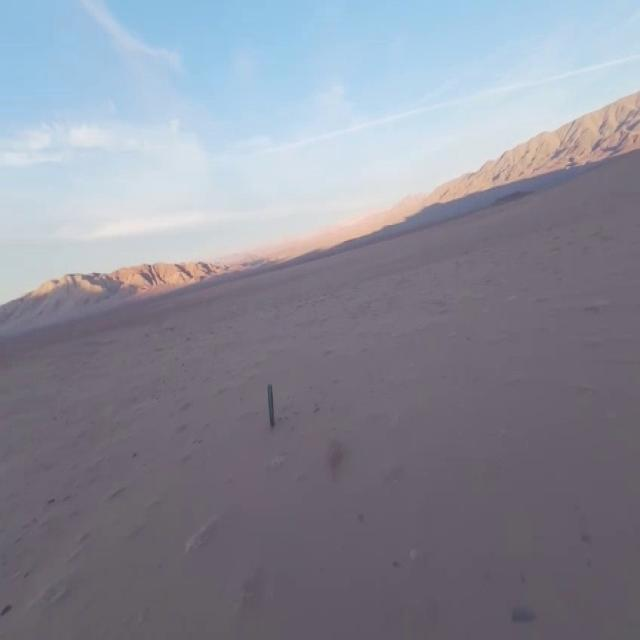Tire: (269, 384, 275, 426)
